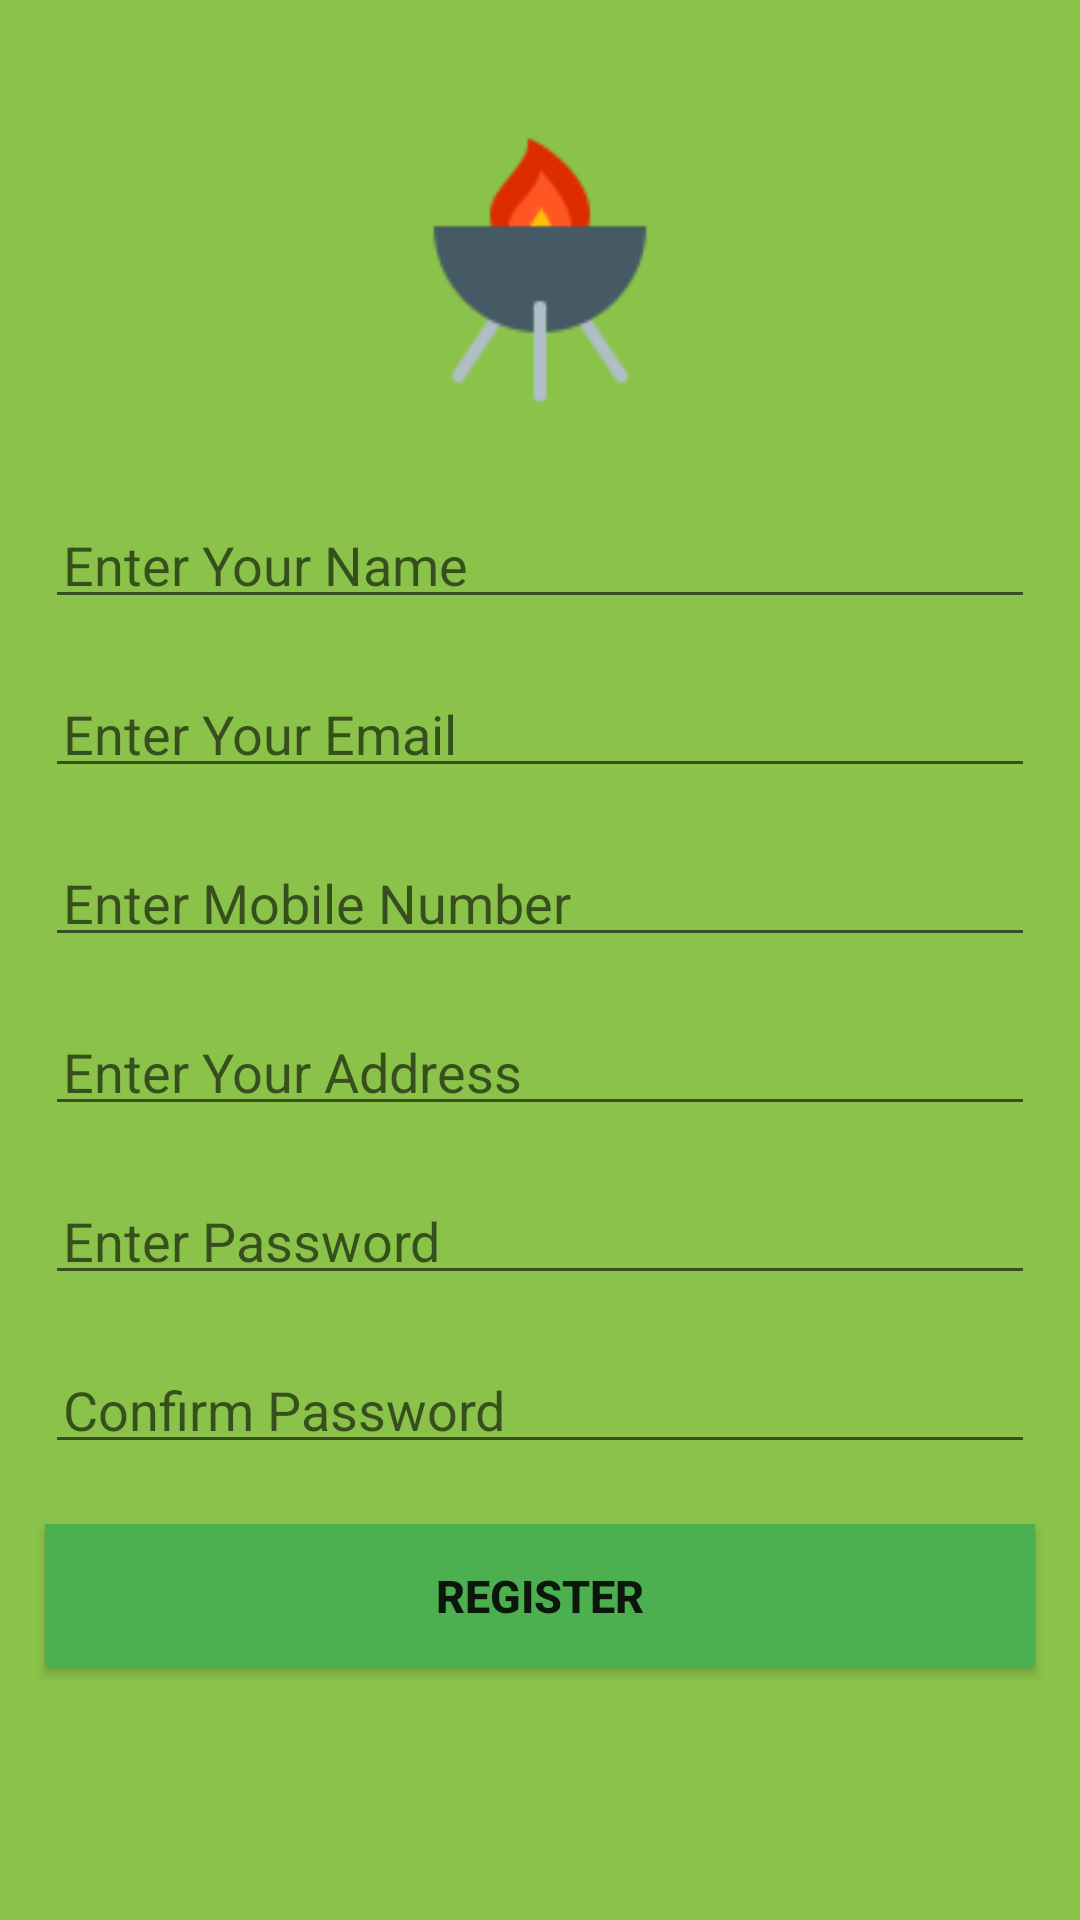

Where to tap for icons on this 1080 × 1920 app screen, as (x=x, y=y):
grill: (x=540, y=270)
